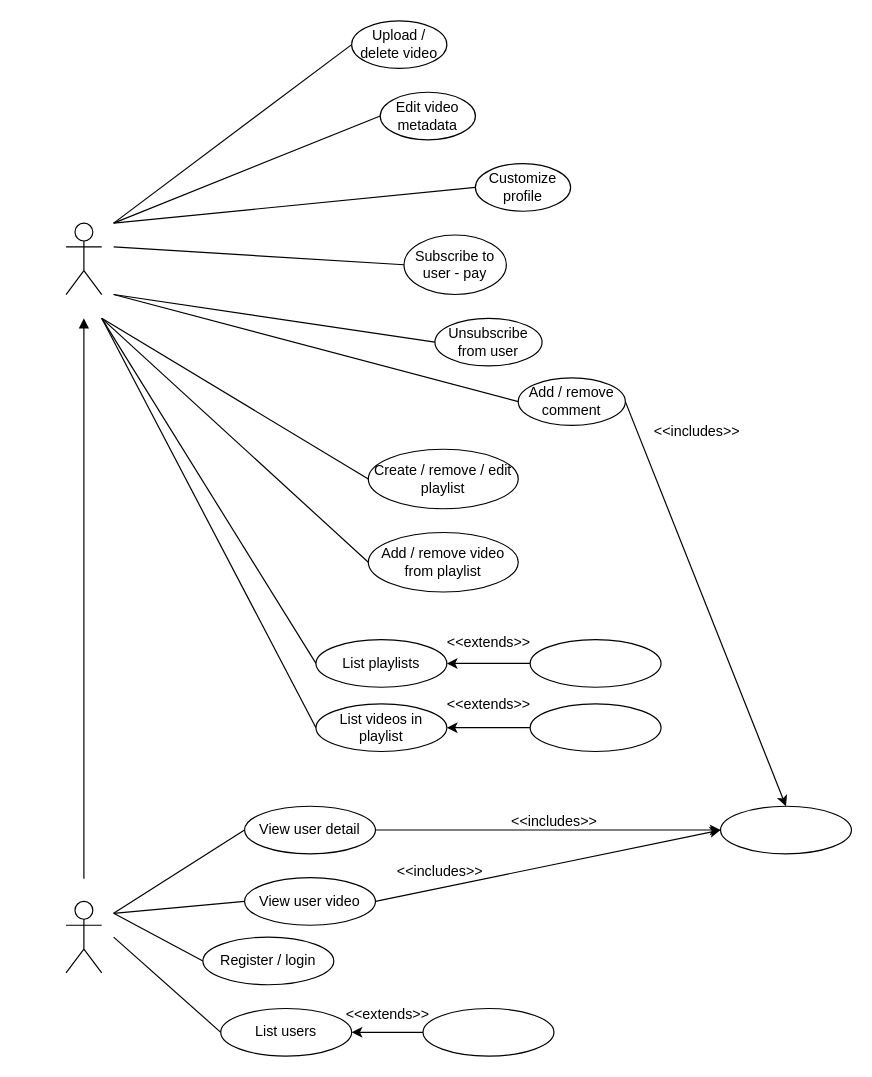
The diagram is 872 pixels wide and 1077 high, and some of its shapes have lost their labels. Here are the shapes that lost their labels. From the top down, the centre of each, then its label:
the point at 83,258: Registered user
the point at 595,662: Filter playlists
the point at 595,727: Filter videos in playlist
the point at 785,829: Has access to user
the point at 83,936: Non-registered user
the point at 488,1031: Filter users
